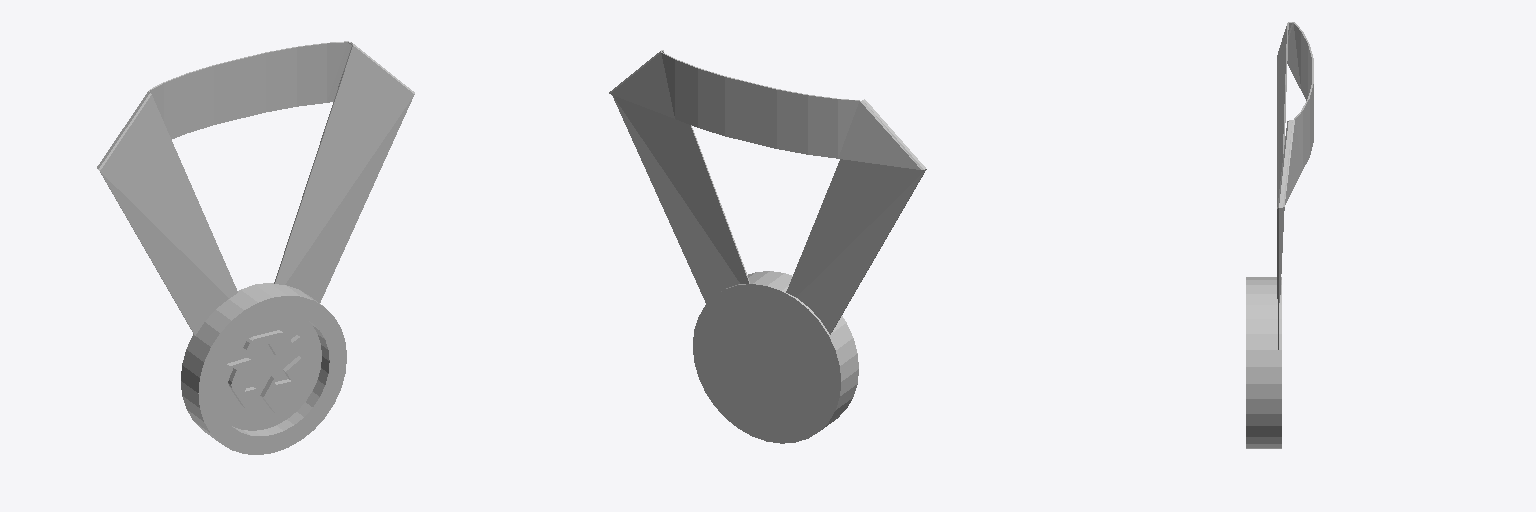
The model's file is GarbageMedal.obj.
3 views of the same model, side by side, from view 1: azimuth 30°, elevation 25°; view 2: azimuth 150°, elevation 25°; view 3: azimuth 270°, elevation 25° (orthographic).
Parts seen in each view (by area): view 1: MedalFabric.004_Plane.006, MedalGarbage_Circle, ArrowsMedal_Plane; view 2: MedalFabric.004_Plane.006, MedalGarbage_Circle; view 3: MedalGarbage_Circle, MedalFabric.004_Plane.006.
Boxes of the visible parts, x1=… form: MedalFabric.004_Plane.006: x1=97, y1=41, x2=414, y2=335; MedalGarbage_Circle: x1=181, y1=283, x2=346, y2=454; ArrowsMedal_Plane: x1=227, y1=330, x2=305, y2=412; MedalFabric.004_Plane.006: x1=609, y1=50, x2=926, y2=334; MedalGarbage_Circle: x1=693, y1=271, x2=858, y2=443; MedalGarbage_Circle: x1=1246, y1=277, x2=1281, y2=448; MedalFabric.004_Plane.006: x1=1277, y1=22, x2=1313, y2=349.
Bounding box in the file's own units: 4.25 × 4.75 × 0.7827.